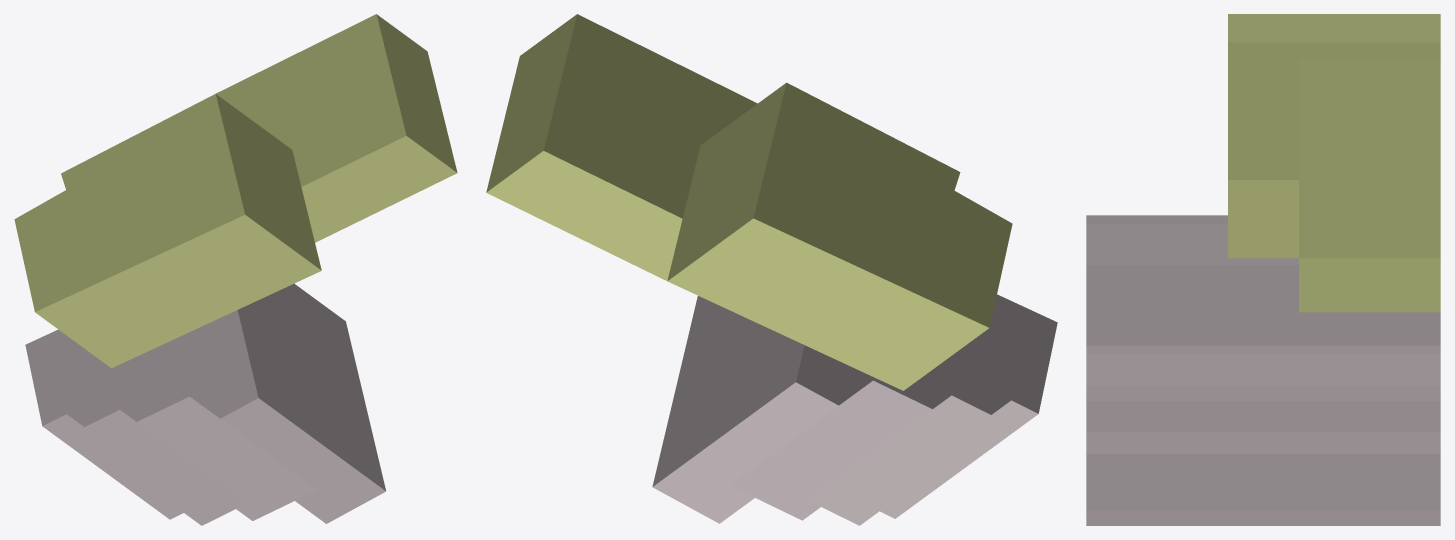
3 renders of one model, left to right at view 1: azimuth 30°, elevation 25°; view 2: azimuth 150°, elevation 25°; view 3: azimuth 270°, elevation 25°, orthographic. The views are drawn at different scales.
Visible parts, largest first — view 1: 0_3_0_1_2_1_1_3_1_3; view 2: 0_3_0_1_2_1_1_3_1_3; view 3: 0_3_0_1_2_1_1_3_1_3.
Part boxes in pixels (bbox=[...]): 0_3_0_1_2_1_1_3_1_3: bbox=[14, 14, 457, 525]; 0_3_0_1_2_1_1_3_1_3: bbox=[486, 14, 1057, 525]; 0_3_0_1_2_1_1_3_1_3: bbox=[1086, 14, 1440, 525].
Bounding box in the file's own units: 26.57 × 24.17 × 15.
